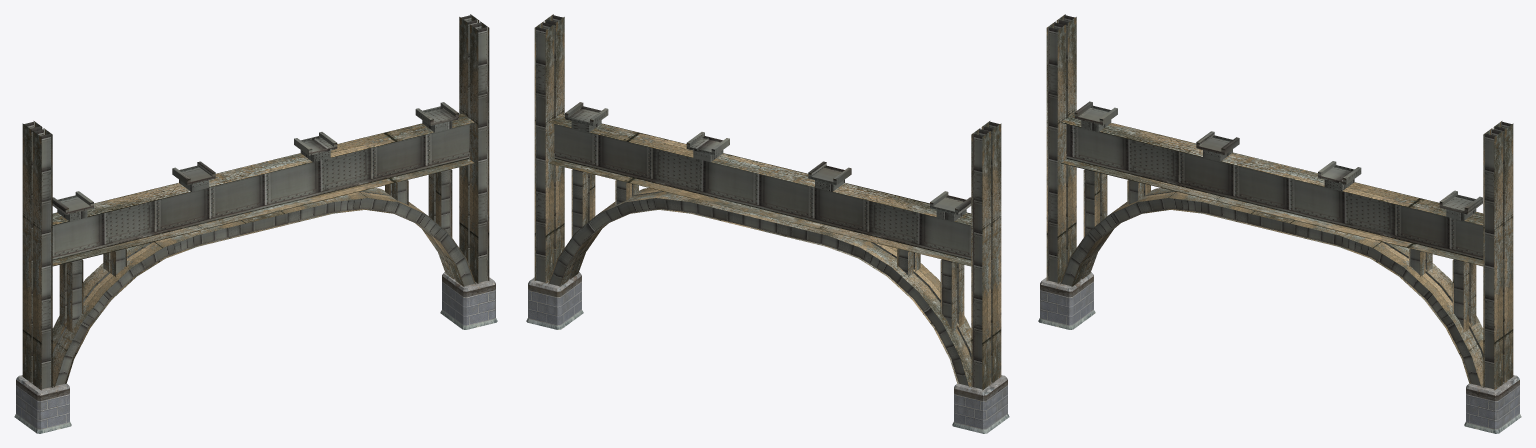
Rendered from bridge.FBX.
The picture shows the model from 3 angles, left to right: view 1: azimuth 30°, elevation 25°; view 2: azimuth 150°, elevation 25°; view 3: azimuth 330°, elevation 25°; orthographic projection.
Parts seen in each view (by area): view 1: Bridge-Support-WideB, dizuo; view 2: Bridge-Support-WideB, dizuo; view 3: Bridge-Support-WideB, dizuo.
Boxes of the visible parts, left/top/right/bottom form: Bridge-Support-WideB: left=22, top=14, right=489, bottom=390; dizuo: left=14, top=272, right=497, bottom=433; Bridge-Support-WideB: left=534, top=14, right=1001, bottom=390; dizuo: left=526, top=272, right=1009, bottom=433; Bridge-Support-WideB: left=1046, top=14, right=1513, bottom=390; dizuo: left=1038, top=272, right=1521, bottom=433.
Bounding box in the file's own units: 2111 × 1285 × 200.
